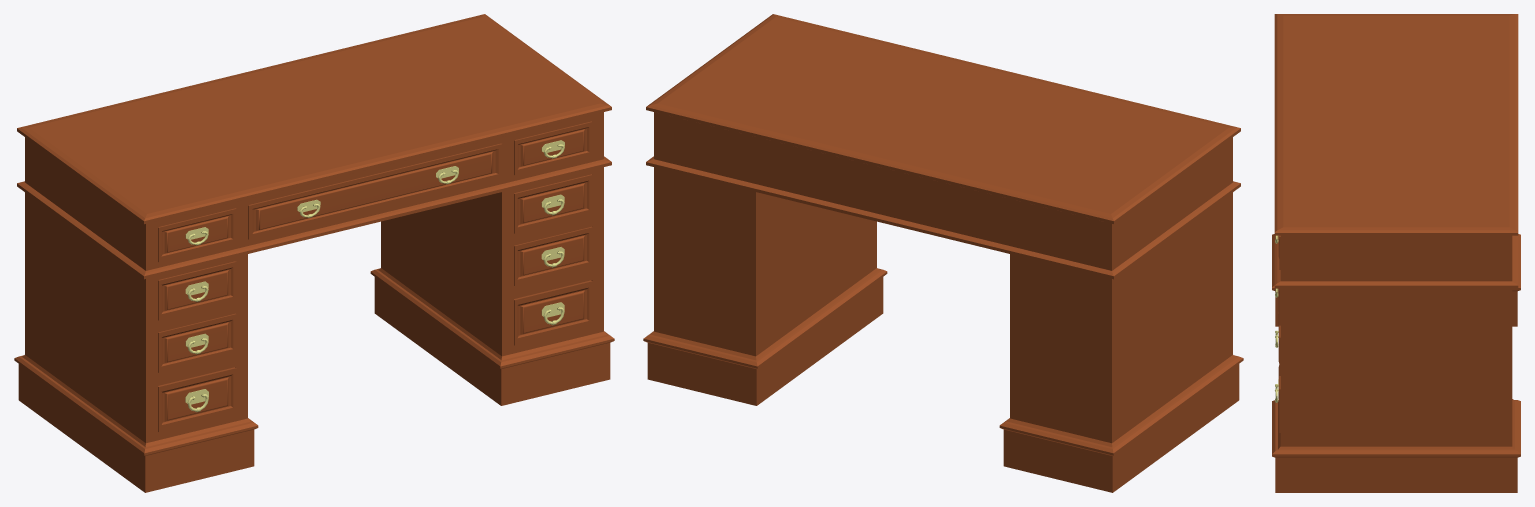
File: Desk.fbx
3 renders of one model, left to right at view 1: azimuth 30°, elevation 25°; view 2: azimuth 150°, elevation 25°; view 3: azimuth 270°, elevation 25°, orthographic. The views are drawn at different scales.
Parts seen in each view (by area): view 1: polySurface89, polySurface112, polySurface106, polySurface90, polySurface96, polySurface55, polySurface76, polySurface60, polySurface105, polySurface111; view 2: polySurface89; view 3: polySurface89.
Part boxes in pixels (bbox=[...]): polySurface89: bbox=[14, 14, 614, 492]; polySurface112: bbox=[248, 143, 502, 239]; polySurface106: bbox=[158, 367, 236, 432]; polySurface90: bbox=[514, 280, 592, 345]; polySurface96: bbox=[158, 261, 236, 320]; polySurface55: bbox=[514, 174, 592, 233]; polySurface76: bbox=[158, 313, 236, 372]; polySurface60: bbox=[514, 226, 592, 285]; polySurface105: bbox=[158, 208, 236, 262]; polySurface111: bbox=[514, 121, 592, 175]; polySurface89: bbox=[643, 14, 1243, 492]; polySurface89: bbox=[1272, 14, 1520, 492].
Bounding box in the file's own units: 4.49 × 2.51 × 2.15.
